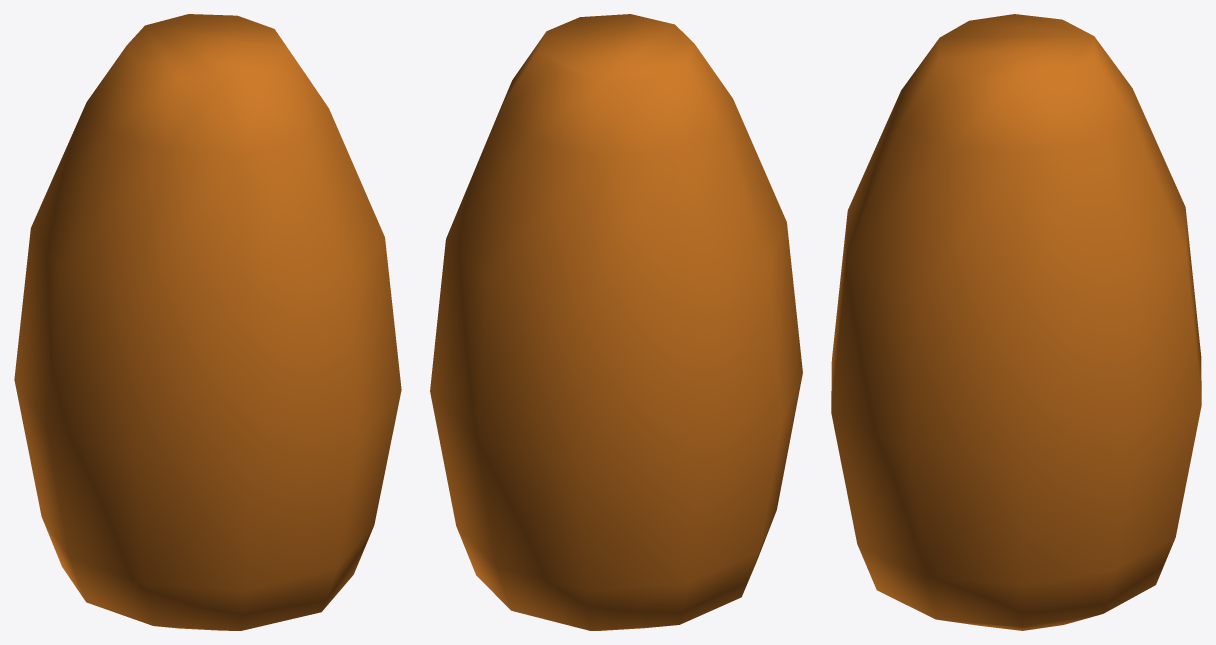
The model's file is TreeTrunk_56.fbx.
3 views of the same model, side by side, from view 1: azimuth 30°, elevation 25°; view 2: azimuth 150°, elevation 25°; view 3: azimuth 270°, elevation 25° (orthographic).
Parts seen in each view (by area): view 1: TreeTrunk_56; view 2: TreeTrunk_56; view 3: TreeTrunk_56.
Part boxes in pixels (box(x1,y1,x2,y2)): TreeTrunk_56: box(14, 14, 401, 630); TreeTrunk_56: box(430, 14, 802, 630); TreeTrunk_56: box(831, 14, 1201, 630).
Bounding box in the file's own units: 119 × 193 × 117.
